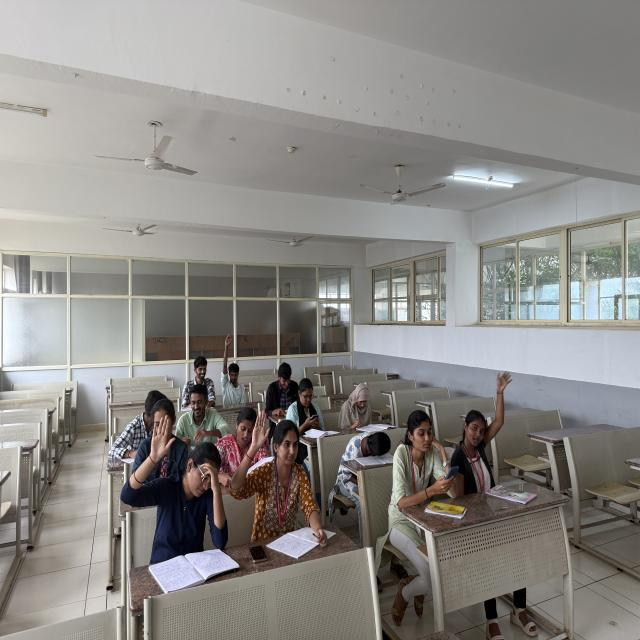Hand Rising: (122, 417, 228, 547), (236, 410, 304, 540), (452, 371, 515, 484), (220, 324, 250, 412)
Sleeping: (334, 420, 395, 472)
Using Phone: (394, 401, 460, 492), (292, 371, 326, 436)
Writing: (330, 380, 397, 438)
